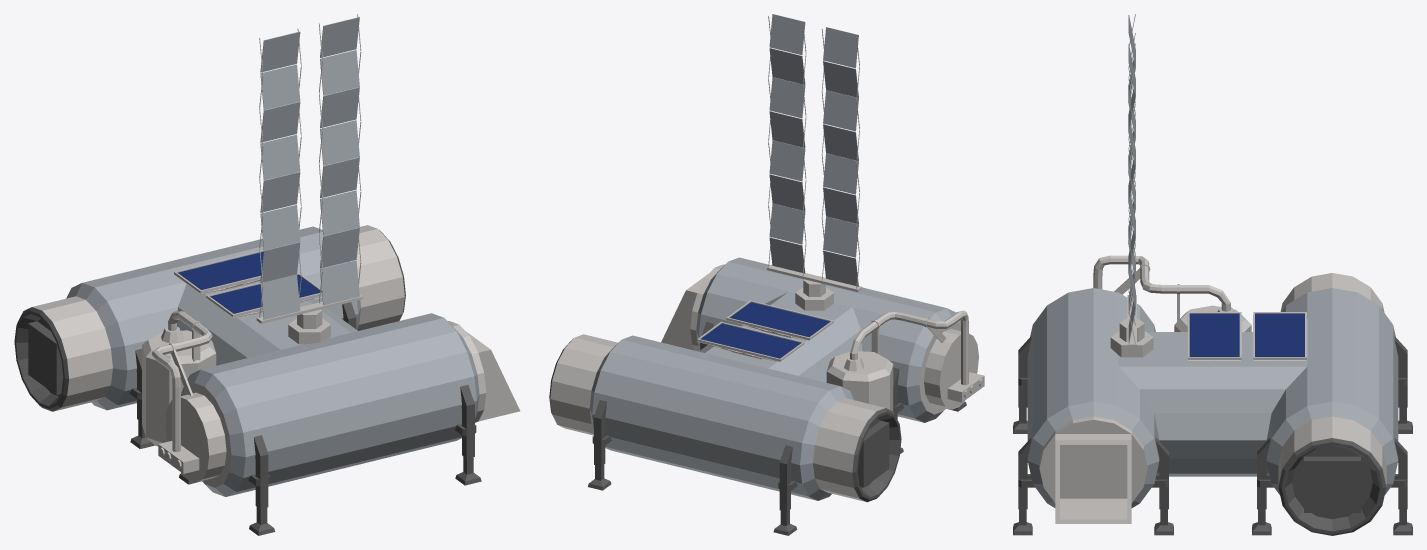
File: проиводство (2).glb
3 renders of one model, left to right at view 1: azimuth 30°, elevation 25°; view 2: azimuth 150°, elevation 25°; view 3: azimuth 270°, elevation 25°, orthographic. The views are drawn at different scales.
Visible parts, largest first — view 1: Cylinder.013; view 2: Cylinder.013; view 3: Cylinder.013.
Boxes of the visible parts, x1,y1,x2,y2 form: Cylinder.013: [14, 14, 520, 535]; Cylinder.013: [549, 14, 984, 535]; Cylinder.013: [1013, 14, 1412, 535].
Bounding box in the file's own units: 7.39 × 9.02 × 7.39.
